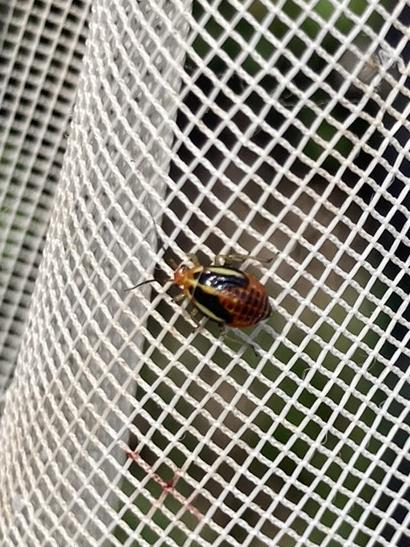plant_bugs: (109, 195, 318, 370)
